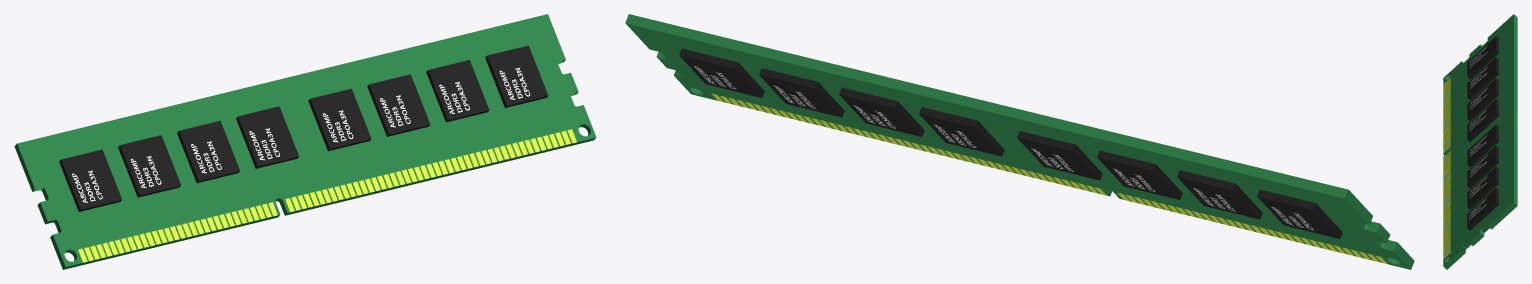
File: DDR3.fbx
3 renders of one model, left to right at view 1: azimuth 30°, elevation 25°; view 2: azimuth 150°, elevation 25°; view 3: azimuth 270°, elevation 25°, orthographic. The views are drawn at different scales.
Parts seen in each view (by area): view 1: DDR3; view 2: DDR3; view 3: DDR3.
Part boxes in pixels (x1=…): DDR3: x1=14, y1=14, x2=596, y2=269; DDR3: x1=625, y1=14, x2=1414, y2=269; DDR3: x1=1443, y1=14, x2=1517, y2=269.
Bounding box in the file's own units: 473 × 78.97 × 78.97.
